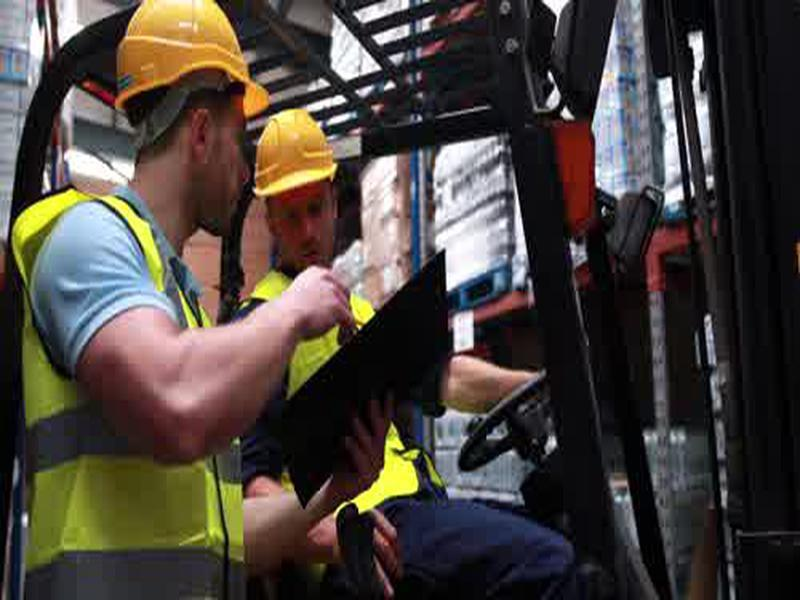hard-hat: (110, 1, 274, 117), (249, 109, 340, 197)
